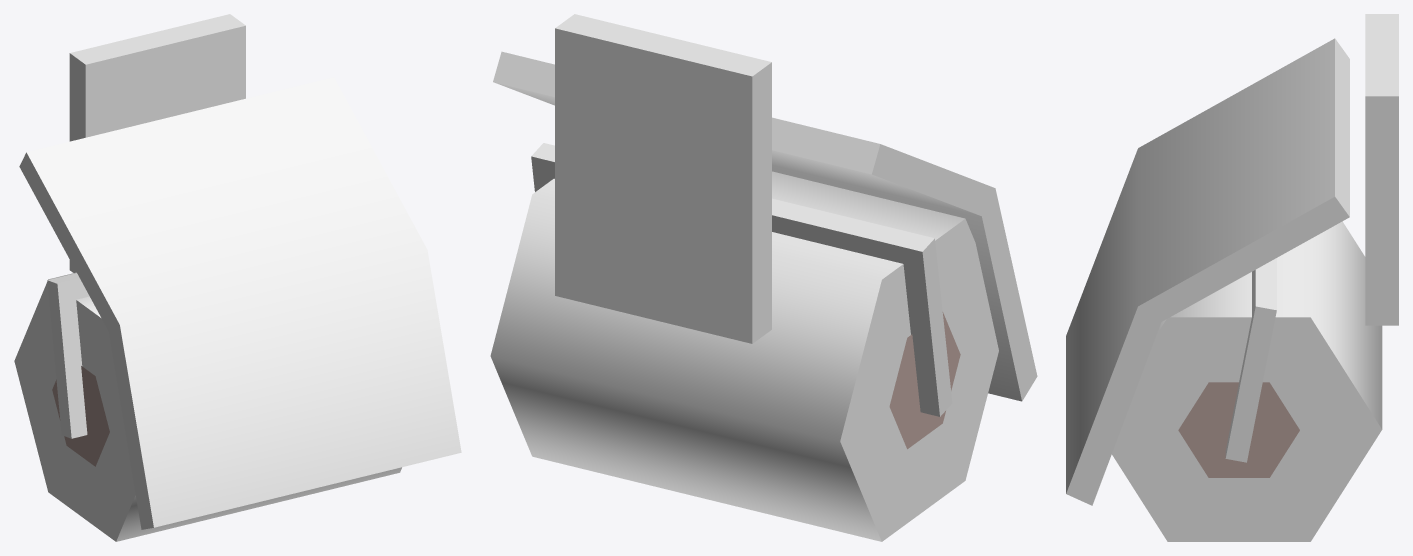
File: bathroom_item_038.glb
The picture shows the model from 3 angles, left to right: view 1: azimuth 30°, elevation 25°; view 2: azimuth 150°, elevation 25°; view 3: azimuth 270°, elevation 25°; orthographic projection. The views are drawn at different scales.
Parts seen in each view (by area): view 1: bathroom_item_038; view 2: bathroom_item_038; view 3: bathroom_item_038.
Boxes of the visible parts, left/top/right/bottom form: bathroom_item_038: left=14, top=14, right=461, bottom=541; bathroom_item_038: left=490, top=14, right=1037, bottom=541; bathroom_item_038: left=1066, top=14, right=1398, bottom=541.
Bounding box in the file's own units: 0.1684 × 0.199 × 0.1448.
1 material, 1 textured.
